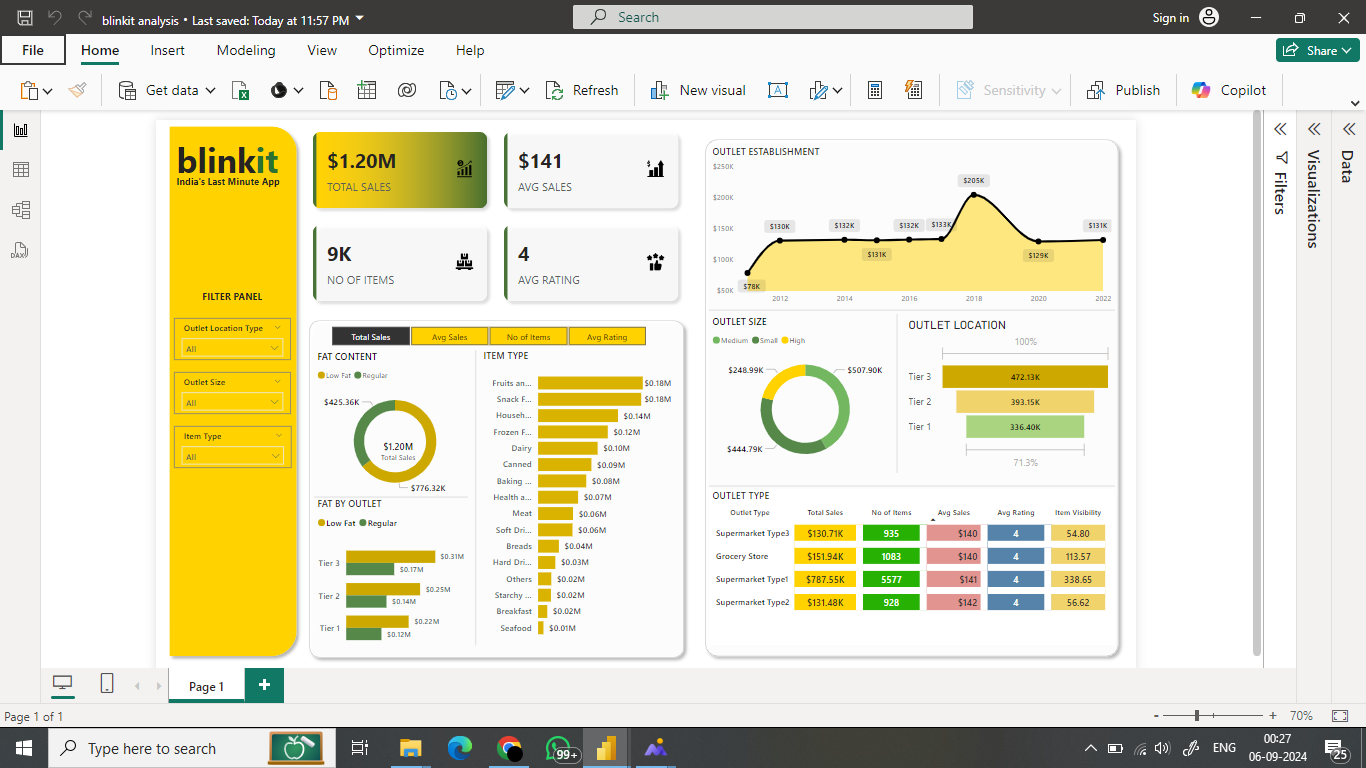

The page's visual inventory and layout, read from the dashboard file:
{"tool":"powerbi","page":{"name":"Page 1","canvas":[1400,800],"ordinal":0},"visuals":[{"type":"shape","box":[10,0,200,775],"z":0},{"type":"textbox","box":[23.6,18.9,168.5,108.7],"z":1000},{"type":"textbox","box":[23.6,74,168.5,28.3],"z":2000},{"type":"cardVisual","fields":{"Data":["BlinkIT Grocery Data.Total Sales","BlinkIT Grocery Data.Avg Sales","BlinkIT Grocery Data.No of Items","BlinkIT Grocery Data.Avg Rating"]},"box":[206.7,0,556.7,276.7],"z":3000},{"type":"shape","box":[210,276.7,553.3,500],"z":4000},{"type":"donutChart","title":" FAT CONTENT","fields":{"Y":["BlinkIT Grocery Data.Total Sales"],"Category":["BlinkIT Grocery Data.Item Fat Content"]},"box":[225,328.3,231.7,216.7],"z":5000},{"type":"slicer","fields":{"Values":["metrics.metrics"]},"box":[225,288.3,498.3,40],"z":6000},{"type":"cardVisual","fields":{"Data":["BlinkIT Grocery Data.Total Sales"]},"box":[296.7,433.3,98.3,80],"z":7000},{"type":"clusteredBarChart","title":"FAT BY OUTLET","fields":{"Y":["BlinkIT Grocery Data.Total Sales"],"Category":["BlinkIT Grocery Data.Outlet Location Type"],"Series":["BlinkIT Grocery Data.Item Fat Content"]},"box":[225,538.3,220,230],"z":8000},{"type":"shape","box":[225,523.3,220,31.7],"z":9000},{"type":"shape","box":[450,328.3,13.3,421.7],"z":10000},{"type":"barChart","title":"ITEM TYPE","fields":{"Y":["BlinkIT Grocery Data.Total Sales"],"Category":["BlinkIT Grocery Data.Item Type"]},"box":[463,327.6,278.7,422],"z":11000},{"type":"shape","box":[775,18.3,608.3,756.7],"z":12000},{"type":"lineChart","title":"OUTLET ESTABLISHMENT","fields":{"Y":["BlinkIT Grocery Data.Total Sales"],"Category":["BlinkIT Grocery Data.Outlet Establishment Year"]},"box":[790,35,580,236.7],"z":13000},{"type":"shape","box":[790,256,580,32],"z":14000},{"type":"donutChart","title":"OUTLET SIZE","fields":{"Y":["BlinkIT Grocery Data.Total Sales"],"Category":["BlinkIT Grocery Data.Outlet Size"]},"box":[790,278,275,225],"z":15000},{"type":"shape","box":[1053.3,276.7,11.7,226.7],"z":16000},{"type":"funnel","title":"OUTLET LOCATION","fields":{"Y":["BlinkIT Grocery Data.Sales"],"Category":["BlinkIT Grocery Data.Outlet Location Type"]},"box":[1070,283.3,300,220],"z":17000},{"type":"shape","box":[790,506.7,580,31.7],"z":18000},{"type":"pivotTable","title":"OUTLET TYPE","fields":{"Rows":["BlinkIT Grocery Data.Outlet Type"],"Values":["BlinkIT Grocery Data.Total Sales","BlinkIT Grocery Data.No of Items","BlinkIT Grocery Data.Avg Sales","BlinkIT Grocery Data.Avg Rating","BlinkIT Grocery Data.Item Visibility"]},"box":[790,526.7,580,223.3],"z":19000},{"type":"slicer","fields":{"Values":["BlinkIT Grocery Data.Outlet Location Type"]},"box":[25,283.3,166.7,60],"z":20000},{"type":"slicer","fields":{"Values":["BlinkIT Grocery Data.Outlet Size"]},"box":[25,360,166.7,60],"z":21000},{"type":"slicer","fields":{"Values":["BlinkIT Grocery Data.Item Type"]},"box":[25,436.7,168.3,60],"z":22000},{"type":"textbox","box":[25,238.3,166.7,38.3],"z":23000}]}

Visuals, with their boxes on the page's 1400x800 design canvas (x1, y1, x2, y2). These are canvas units, not pixel positions in the 1366x768 screenshot, which may show the page scaled, cropped or inside an application window:
shape: 10 0 210 775
textbox: 24 19 192 128
textbox: 24 74 192 102
cardVisual - BlinkIT Grocery Data.Total Sales x BlinkIT Grocery Data.Avg Sales: 207 0 763 277
shape: 210 277 763 777
" FAT CONTENT" donutChart: 225 328 457 545
slicer - metrics.metrics: 225 288 723 328
cardVisual - BlinkIT Grocery Data.Total Sales: 297 433 395 513
"FAT BY OUTLET" clusteredBarChart: 225 538 445 768
shape: 225 523 445 555
shape: 450 328 463 750
"ITEM TYPE" barChart: 463 328 742 750
shape: 775 18 1383 775
"OUTLET ESTABLISHMENT" lineChart: 790 35 1370 272
shape: 790 256 1370 288
"OUTLET SIZE" donutChart: 790 278 1065 503
shape: 1053 277 1065 503
"OUTLET LOCATION" funnel: 1070 283 1370 503
shape: 790 507 1370 538
"OUTLET TYPE" pivotTable: 790 527 1370 750
slicer - BlinkIT Grocery Data.Outlet Location Type: 25 283 192 343
slicer - BlinkIT Grocery Data.Outlet Size: 25 360 192 420
slicer - BlinkIT Grocery Data.Item Type: 25 437 193 497
textbox: 25 238 192 277
